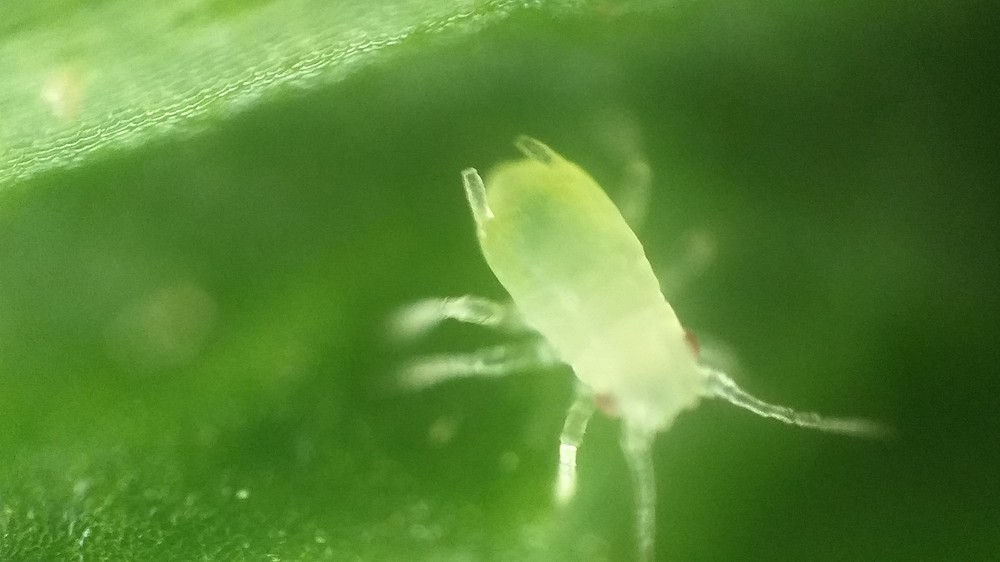Pulgon: (360, 127, 913, 535)
